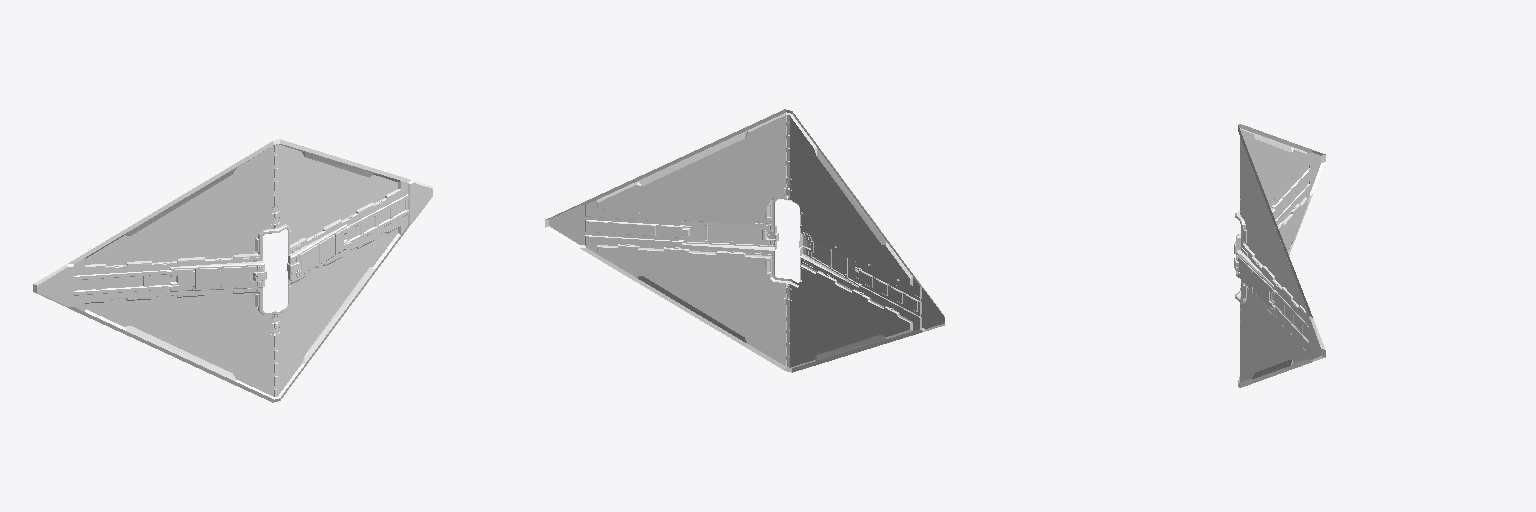
Rendered from oolite_ico.alt.obj.
The picture shows the model from 3 angles: view 1: azimuth 30°, elevation 25°; view 2: azimuth 150°, elevation 25°; view 3: azimuth 270°, elevation 25°; orthographic projection.
Visible parts, largest first — view 1: facetripped_scaled.obj; view 2: facetripped_scaled.obj; view 3: facetripped_scaled.obj.
Boxes of the visible parts, x1=… form: facetripped_scaled.obj: x1=33, y1=139, x2=432, y2=402; facetripped_scaled.obj: x1=545, y1=109, x2=944, y2=372; facetripped_scaled.obj: x1=1234, y1=124, x2=1325, y2=387.
Size of the model in its own units: 1272 by 795 by 251.